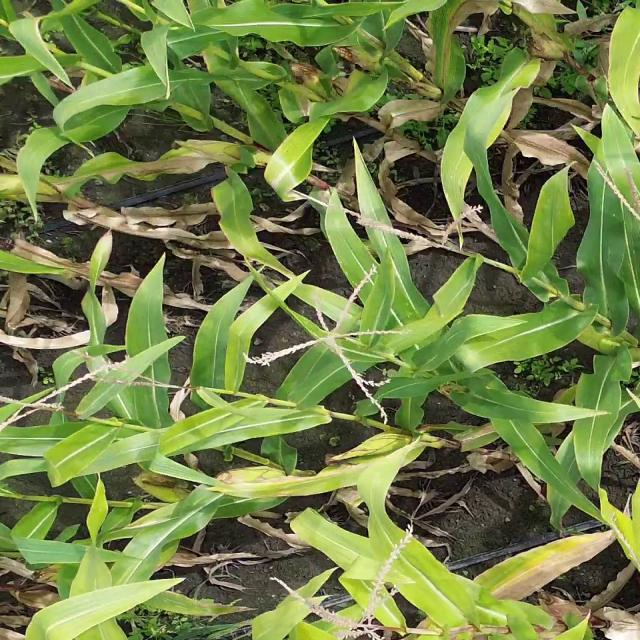northern-leaf-blight: (258, 463, 372, 494), (438, 14, 463, 91), (456, 422, 503, 448), (266, 158, 298, 193)
southern-leaf-blight: (396, 298, 420, 320)
